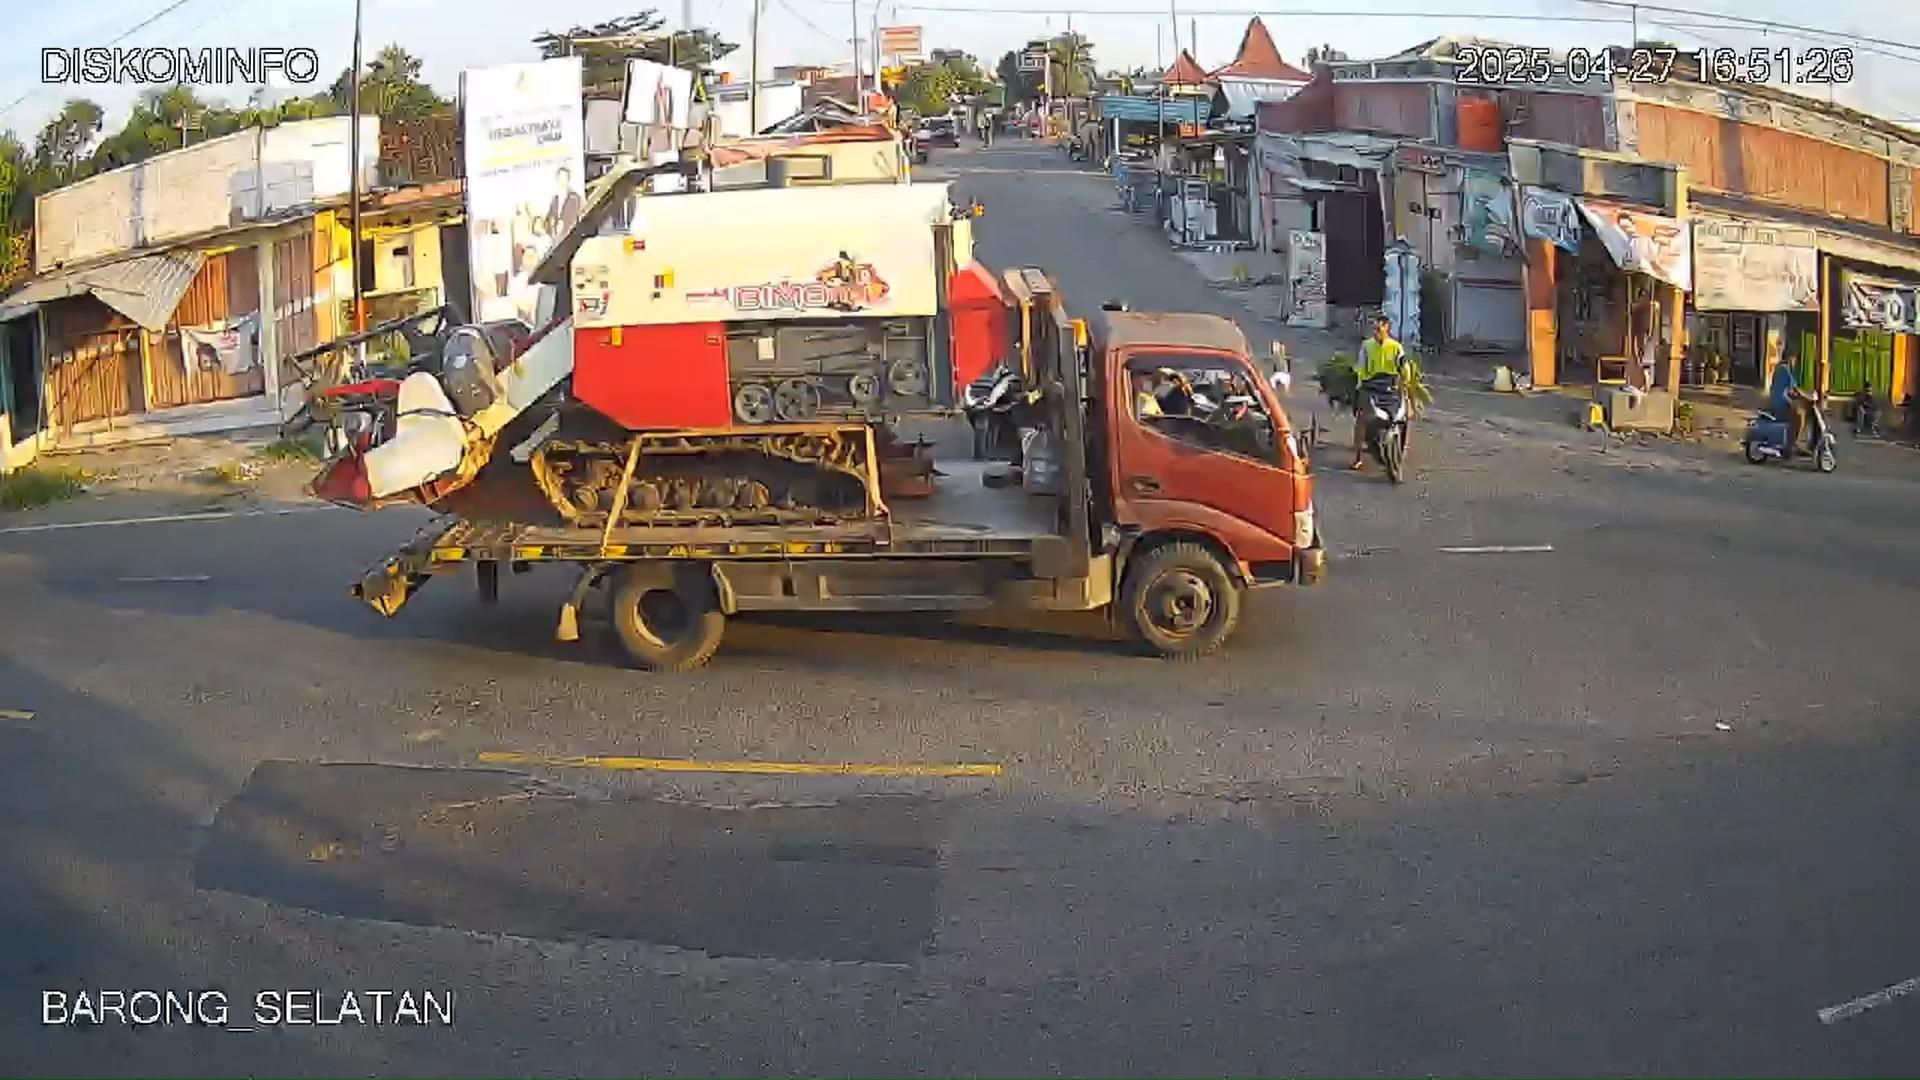Motor: (1735, 347, 1849, 485), (1346, 322, 1418, 491)
Truck: (392, 208, 1323, 673)
